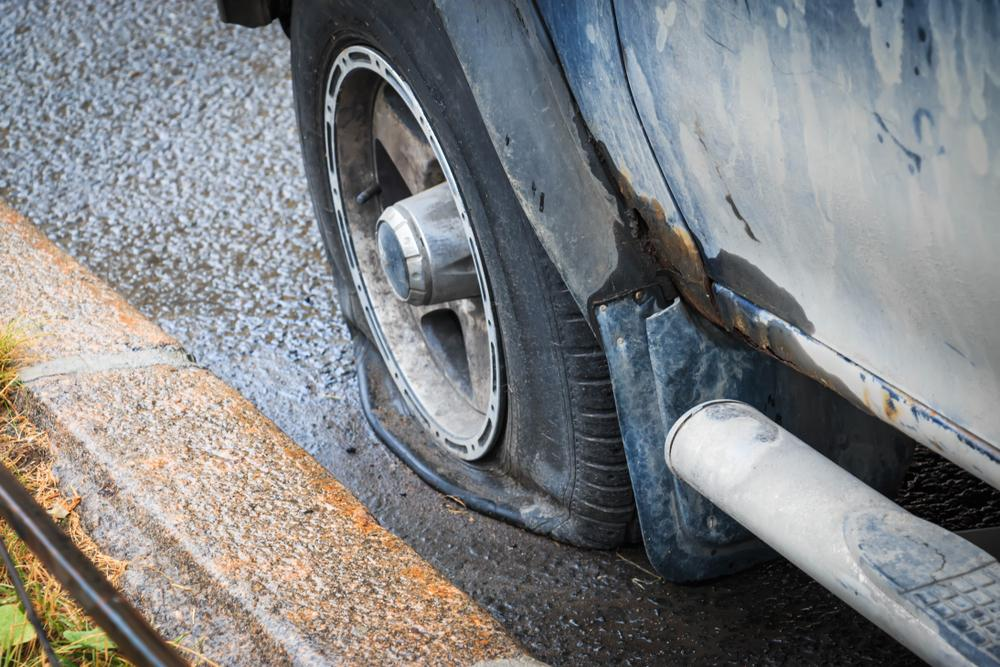tire flat: (290, 0, 642, 550)
